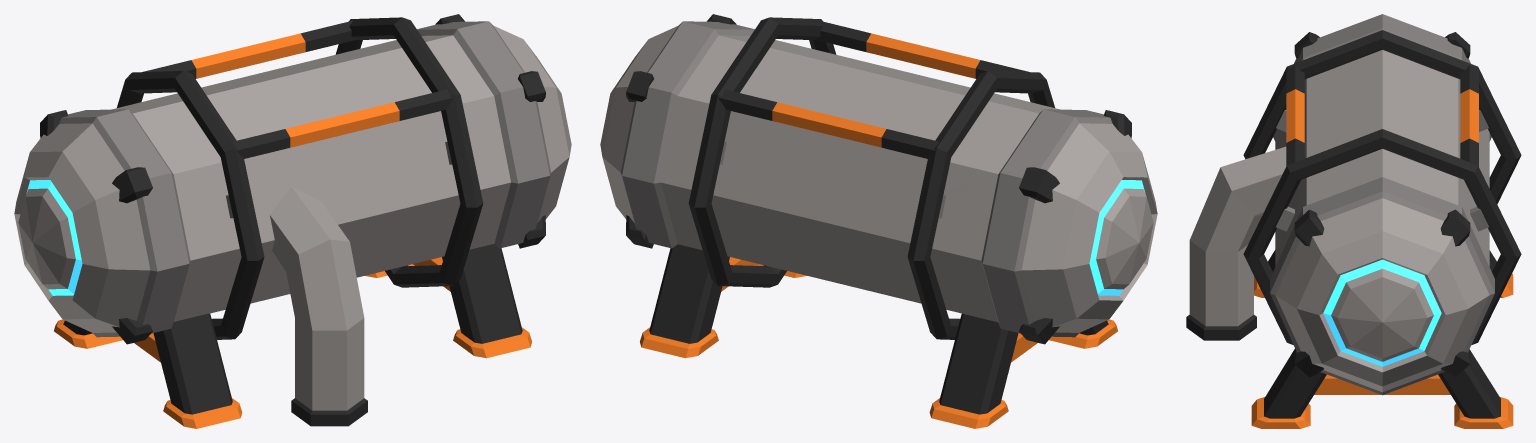
Rendered from scifi_scifi-storage-water.fbx.
3 renders of one model, left to right at view 1: azimuth 30°, elevation 25°; view 2: azimuth 150°, elevation 25°; view 3: azimuth 270°, elevation 25°, orthographic. The views are drawn at different scales.
Visible parts, largest first — view 1: scifi_scifi_storage_water; view 2: scifi_scifi_storage_water; view 3: scifi_scifi_storage_water.
Part boxes in pixels (left/top/right/bottom): scifi_scifi_storage_water: left=14, top=14, right=571, bottom=428; scifi_scifi_storage_water: left=600, top=14, right=1157, bottom=428; scifi_scifi_storage_water: left=1186, top=14, right=1521, bottom=428.
Bounding box in the file's own units: 200 × 107 × 120.
